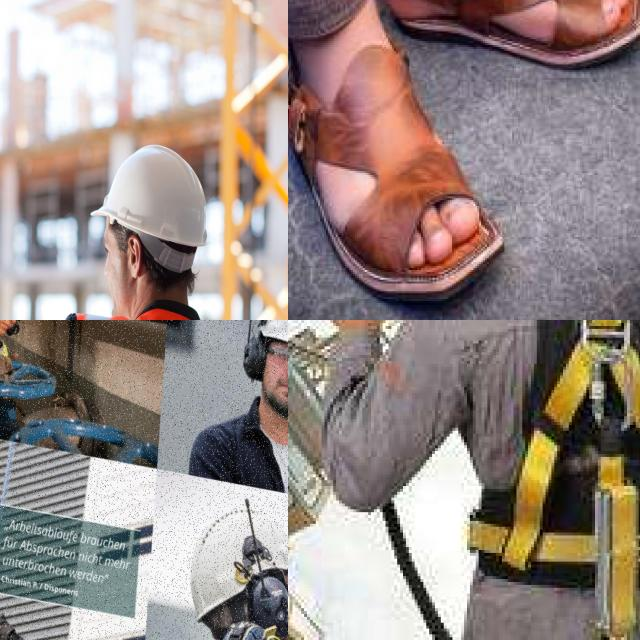Harness: (446, 320, 640, 640)
Sandals: (288, 27, 504, 301), (378, 0, 640, 69)
face_nomask: (76, 213, 165, 320), (262, 355, 288, 418), (0, 320, 16, 336)
glasses: (266, 347, 288, 368)
head_helmet: (90, 146, 216, 251), (191, 510, 288, 619)
person: (0, 134, 288, 320)
